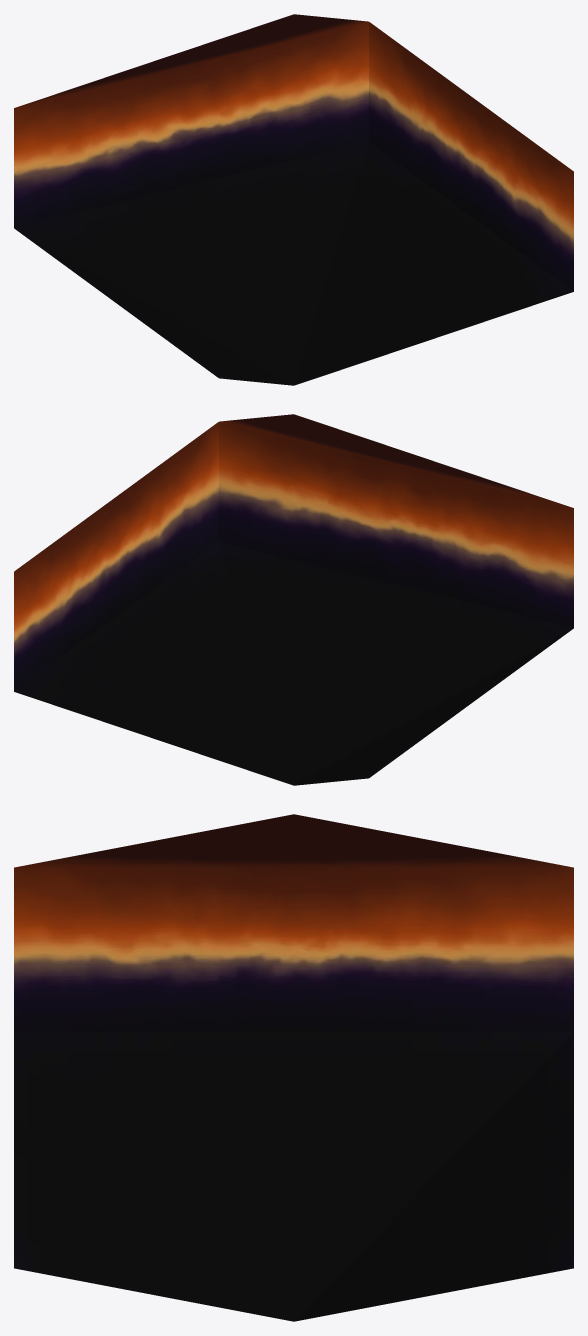
The model's file is sky_haunted.glb.
3 views of the same model, one above another, from view 1: azimuth 30°, elevation 25°; view 2: azimuth 150°, elevation 25°; view 3: azimuth 270°, elevation 25° (orthographic). The views are drawn at different scales.
Visible parts, largest first — view 1: Cube; view 2: Cube; view 3: Cube.
Part boxes in pixels (<box>): Cube: <box>14,14,573,385</box>; Cube: <box>14,414,573,785</box>; Cube: <box>14,814,573,1321</box>.
Size of the model in its own units: 4.48 by 4.48 by 4.48.
Materials: 1 (1 with a texture image).
